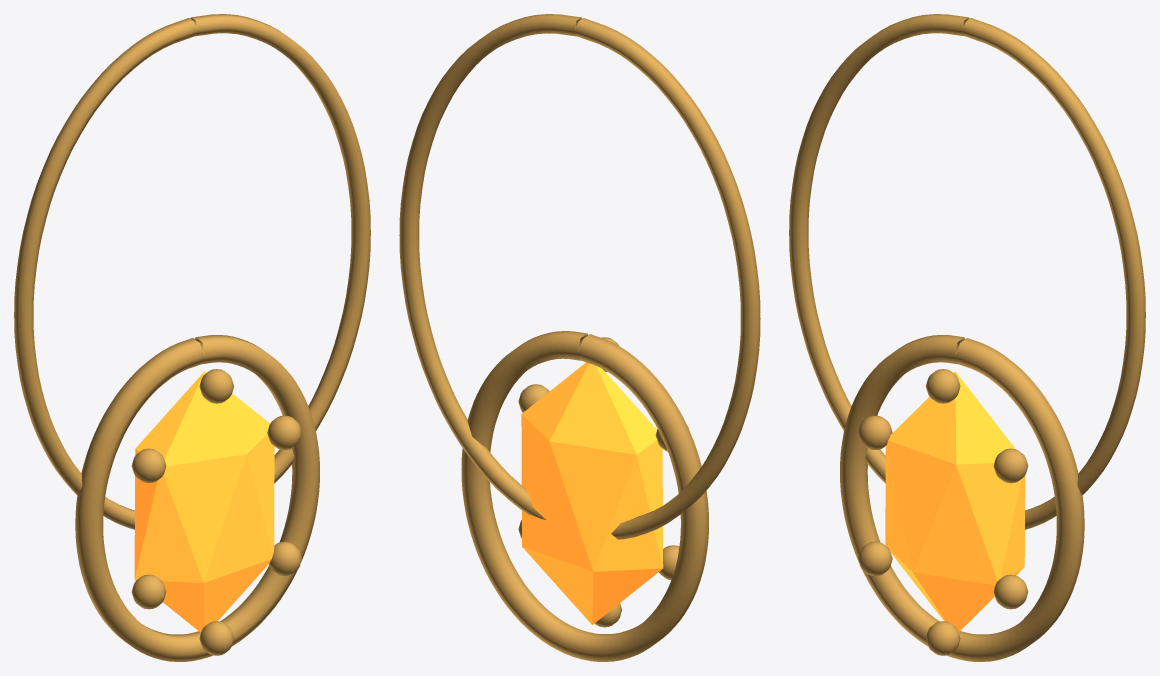
The model's file is relic-5-refined-v15.fbx.
The picture shows the model from 3 angles, left to right: view 1: azimuth 30°, elevation 25°; view 2: azimuth 150°, elevation 25°; view 3: azimuth 330°, elevation 25°; orthographic projection.
Visible parts, largest first — view 1: PendantGem.002, PendantChain.002, PendantFrame.002, SettingClaw.012, SettingClaw.015, SettingClaw.017, SettingClaw.016, SettingClaw.013, SettingClaw.014; view 2: PendantGem.002, PendantChain.002, PendantFrame.002; view 3: PendantGem.002, PendantChain.002, PendantFrame.002, SettingClaw.012, SettingClaw.013, SettingClaw.015, SettingClaw.014, SettingClaw.016, SettingClaw.017.
Boxes of the visible parts, x1,y1,x2,y2 form: PendantGem.002: [134, 371, 274, 632]; PendantChain.002: [14, 14, 370, 529]; PendantFrame.002: [75, 335, 319, 661]; SettingClaw.012: [199, 369, 234, 403]; SettingClaw.015: [199, 621, 233, 655]; SettingClaw.017: [131, 448, 166, 483]; SettingClaw.016: [131, 574, 166, 609]; SettingClaw.013: [267, 415, 301, 449]; SettingClaw.014: [269, 541, 301, 576]; PendantGem.002: [521, 362, 663, 624]; PendantChain.002: [399, 14, 760, 539]; PendantFrame.002: [461, 331, 708, 661]; PendantGem.002: [885, 371, 1025, 631]; PendantChain.002: [789, 14, 1145, 529]; PendantFrame.002: [840, 335, 1084, 661]; SettingClaw.012: [925, 369, 960, 403]; SettingClaw.013: [993, 448, 1028, 483]; SettingClaw.015: [926, 621, 960, 655]; SettingClaw.014: [993, 574, 1028, 609]; SettingClaw.016: [858, 541, 892, 576]; SettingClaw.017: [858, 415, 892, 449].
Size of the model in its own units: 58.42 by 101 by 11.95.
